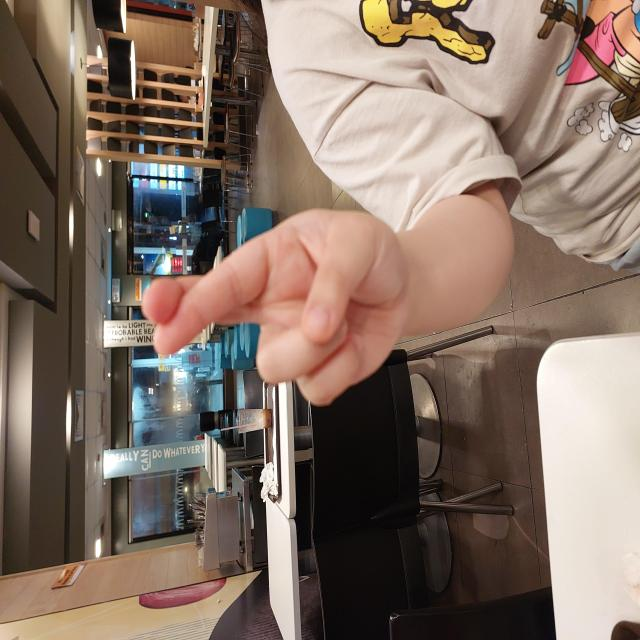R: (232, 140, 432, 408)
